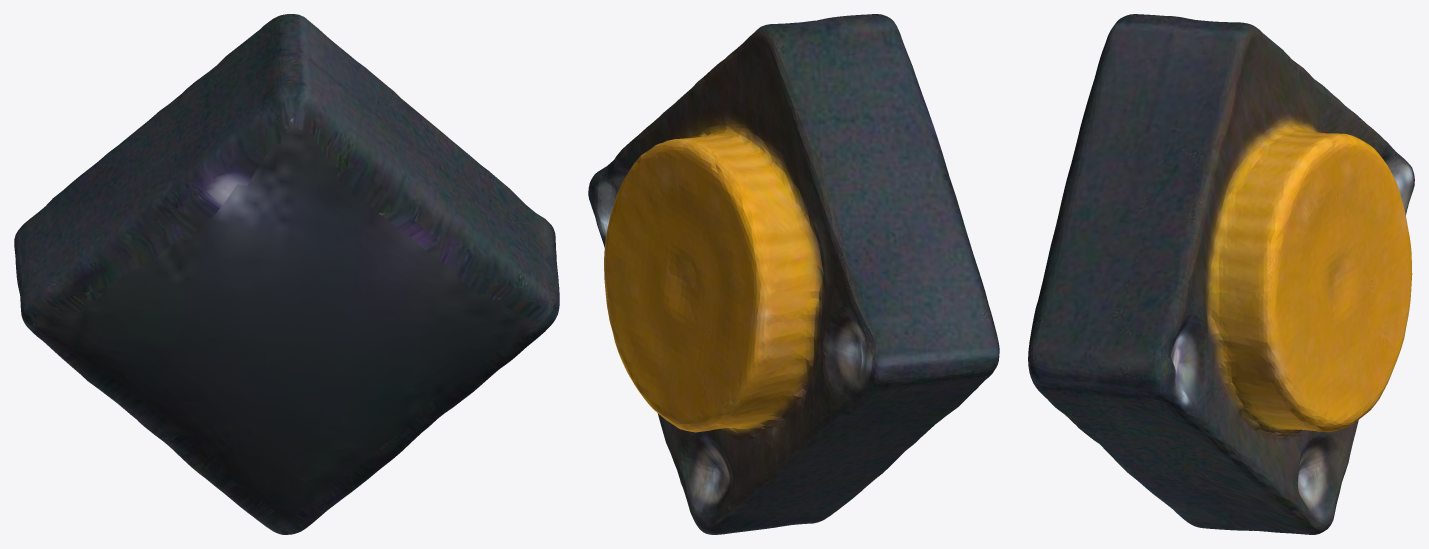
File: suquarebottlecapwithjig_m.obj
The picture shows the model from 3 angles, left to right: view 1: azimuth 30°, elevation 25°; view 2: azimuth 150°, elevation 25°; view 3: azimuth 270°, elevation 25°; orthographic projection. The views are drawn at different scales.
Size of the model in its own units: 0.0677 by 0.069 by 0.0475.
Materials: 1 (1 with a texture image).
